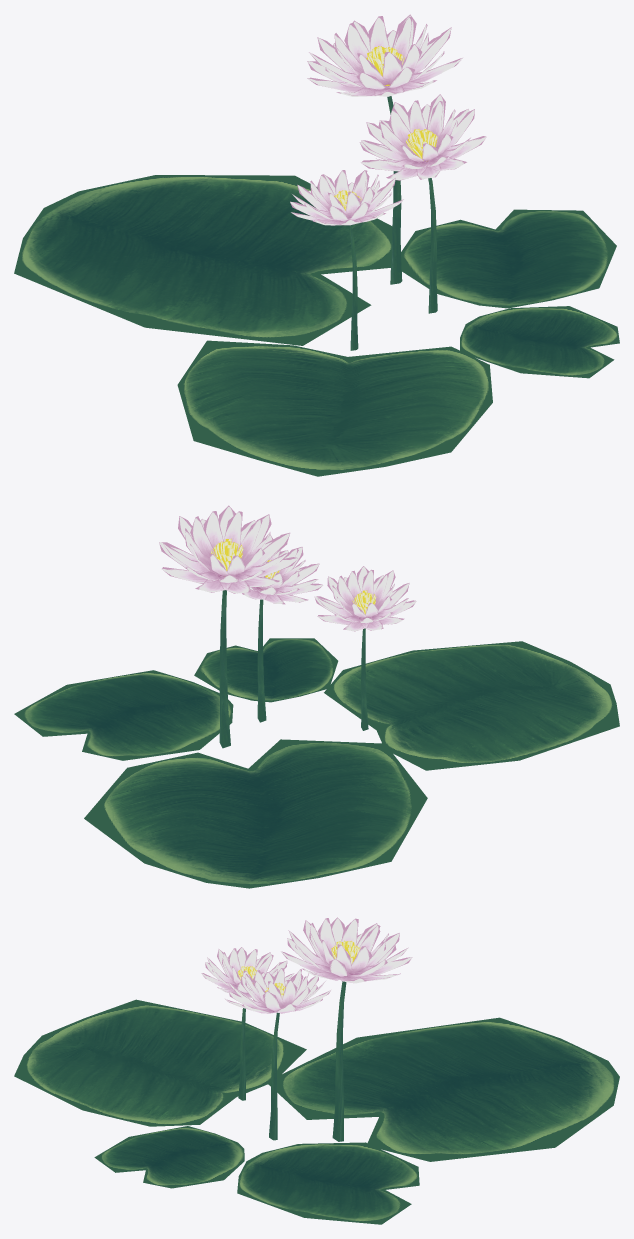
File: SM_Plant_WaterLilies_03.fbx
3 renders of one model, top to bottom at view 1: azimuth 30°, elevation 25°; view 2: azimuth 150°, elevation 25°; view 3: azimuth 270°, elevation 25°, orthographic. The views are drawn at different scales.
Parts seen in each view (by area): view 1: SM_Plant_WaterLilies_03_LOD0; view 2: SM_Plant_WaterLilies_03_LOD0; view 3: SM_Plant_WaterLilies_03_LOD0.
Part boxes in pixels (bbox=[...]): SM_Plant_WaterLilies_03_LOD0: bbox=[14, 14, 619, 476]; SM_Plant_WaterLilies_03_LOD0: bbox=[14, 505, 619, 888]; SM_Plant_WaterLilies_03_LOD0: bbox=[14, 917, 619, 1224].
Size of the model in its own units: 47.81 by 56.23 by 21.57.
Materials: 1 (1 with a texture image).
